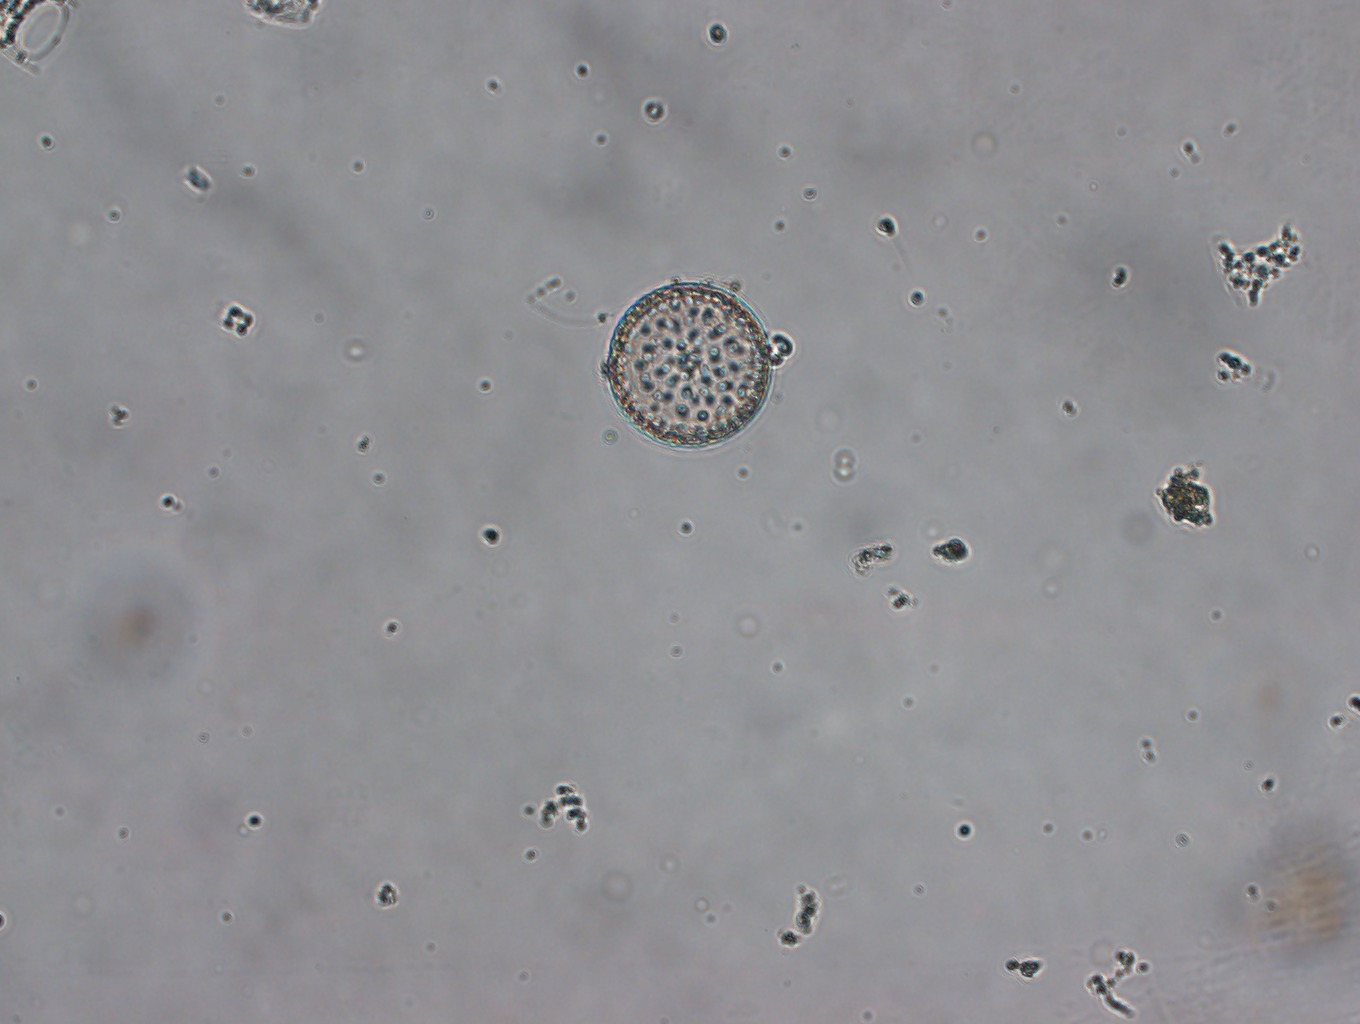coscinodiscus: (604, 282, 773, 450)
